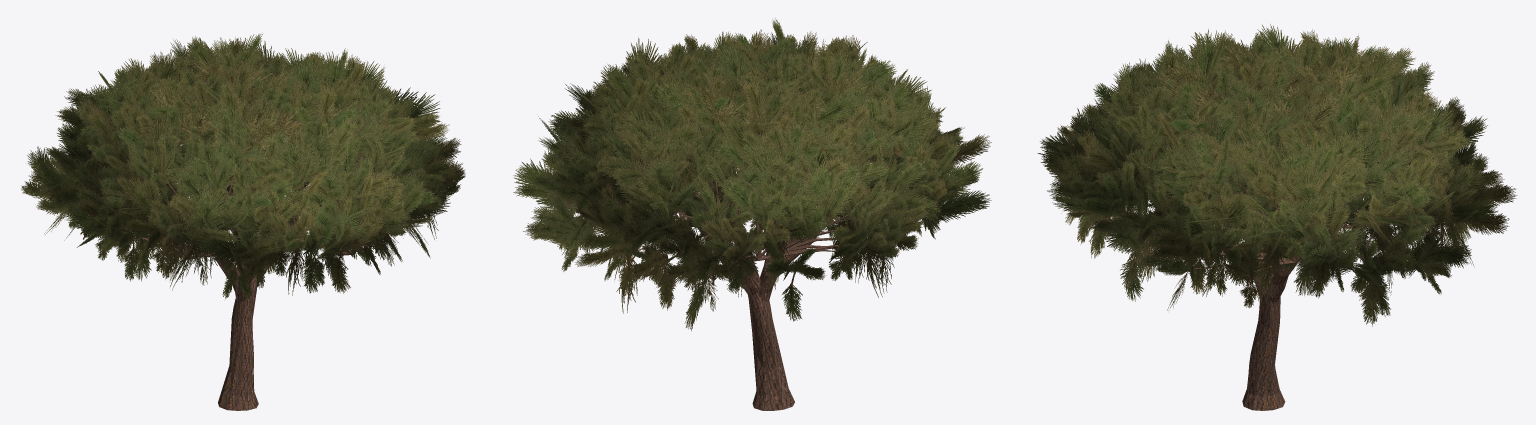
Rendered from pino_pinonero.glb.
3 renders of one model, left to right at view 1: azimuth 30°, elevation 25°; view 2: azimuth 150°, elevation 25°; view 3: azimuth 270°, elevation 25°, orthographic. The views are drawn at different scales.
Visible parts, largest first — view 1: copa, copa_medio, tronco, tronco_medio; view 2: copa_medio, copa, tronco, tronco_medio; view 3: copa, copa_medio, tronco, tronco_medio.
Boxes of the visible parts, box(x1,y1,x2,y2) form: copa: box(21, 41, 465, 299); copa_medio: box(27, 34, 465, 295); tronco: box(101, 140, 362, 410); tronco_medio: box(215, 189, 295, 409); copa_medio: box(513, 18, 991, 330); copa: box(524, 34, 979, 321); tronco: box(592, 136, 873, 410); tronco_medio: box(699, 170, 826, 409); copa: box(1051, 28, 1499, 316); copa_medio: box(1037, 24, 1517, 326); tronco: box(1107, 142, 1451, 410); tronco_medio: box(1110, 147, 1296, 409).
Bounding box in the file's own units: 16.7 × 13.68 × 17.07.
Materials: 2 (2 with a texture image).
